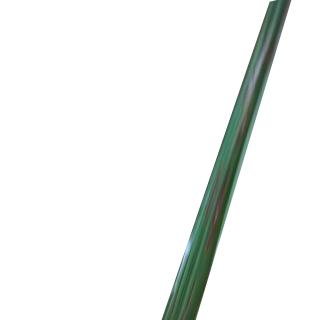Hawar-Daun: (202, 152, 240, 269)
